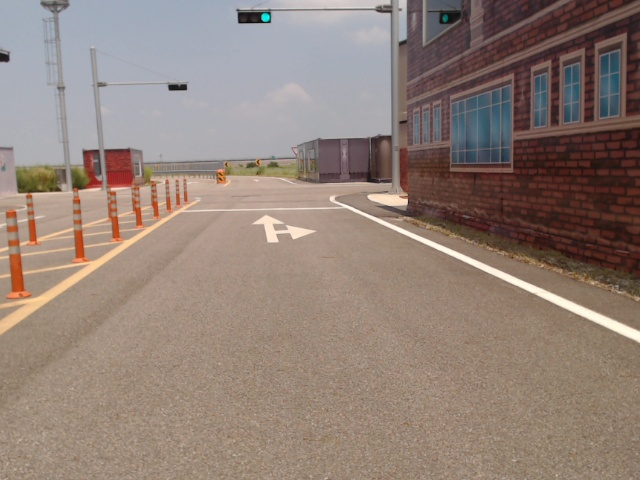green_3: (238, 11, 272, 24)
